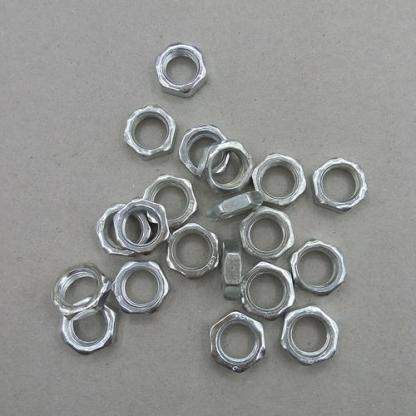FOD: (58, 295, 120, 358), (280, 303, 340, 368), (110, 259, 173, 319), (207, 312, 267, 374), (50, 260, 110, 319), (238, 259, 296, 320), (289, 237, 346, 298), (311, 153, 366, 216), (237, 205, 295, 260), (93, 201, 149, 257), (114, 197, 169, 254), (142, 174, 199, 229), (121, 104, 176, 160), (155, 43, 209, 98), (179, 122, 232, 178), (167, 223, 220, 279), (254, 152, 307, 206), (205, 140, 253, 195), (205, 190, 255, 224), (221, 235, 242, 303)
